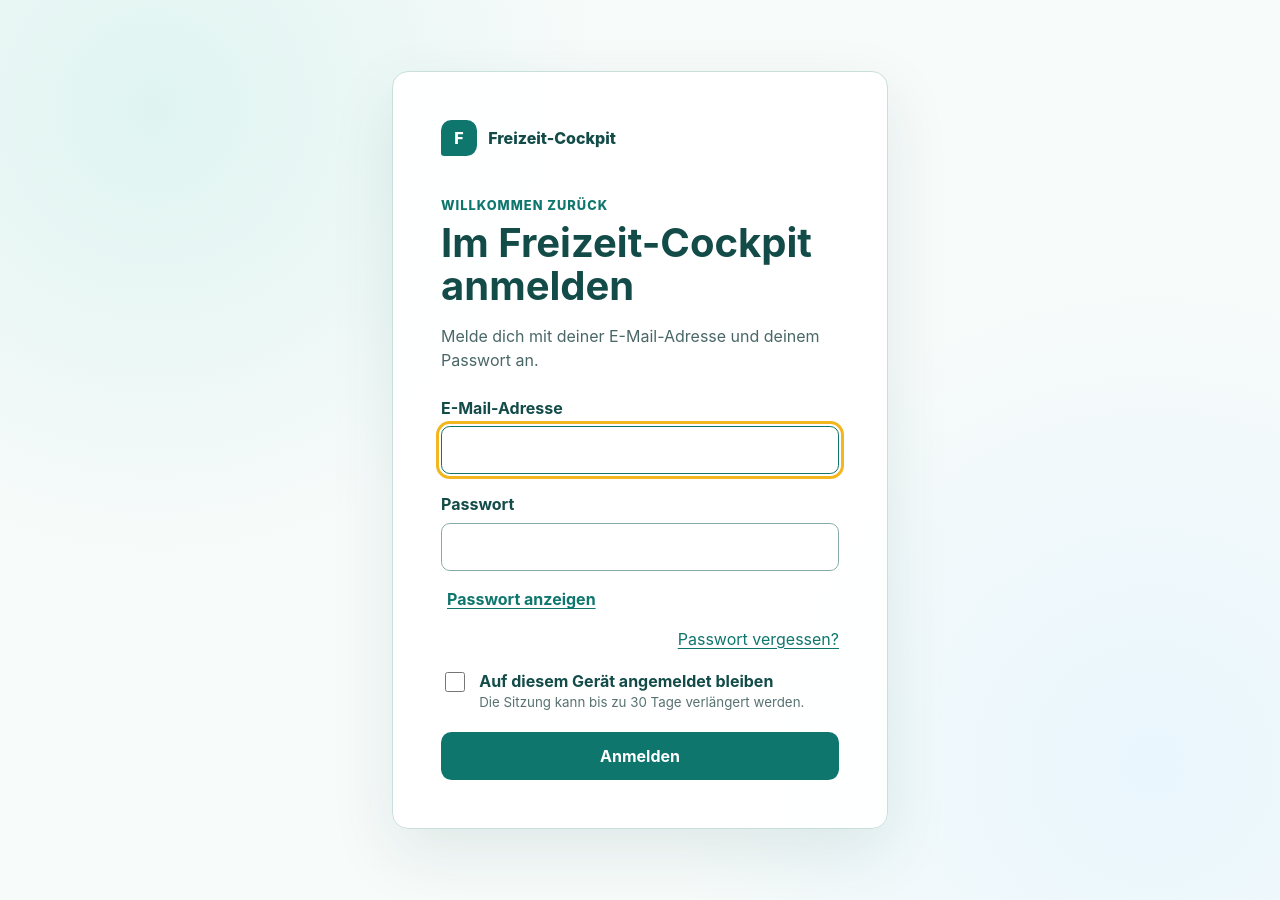
it: identity self-service pages › rejects malformed antiforgery responses during login
Type "lea@example.test" into the field labelled "E-Mail-Adresse" at [640, 450], box [441,426,839,474]
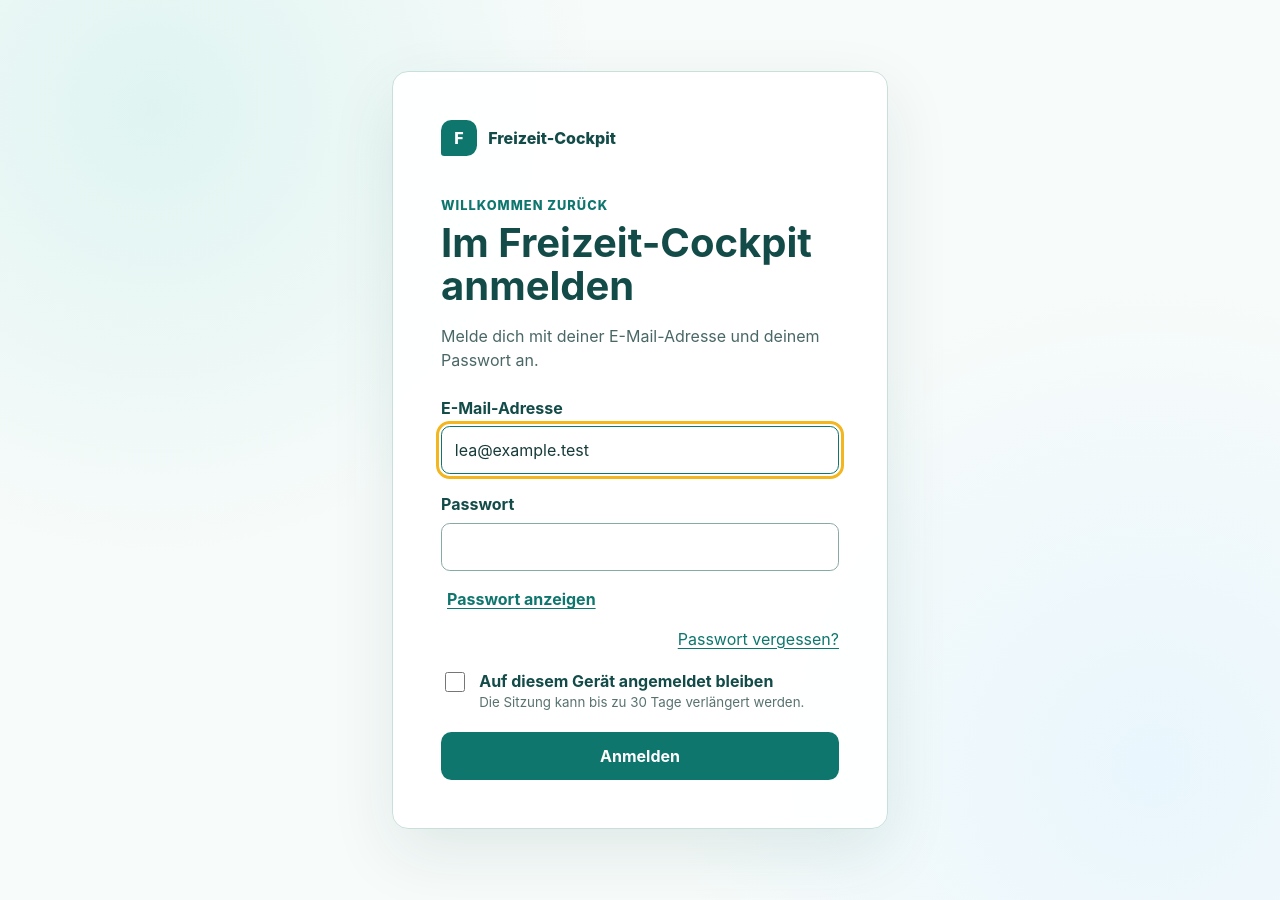
Type "Eine sichere Passphrase" into the password field labelled "Passwort" at [640, 547], box [441,523,839,571]
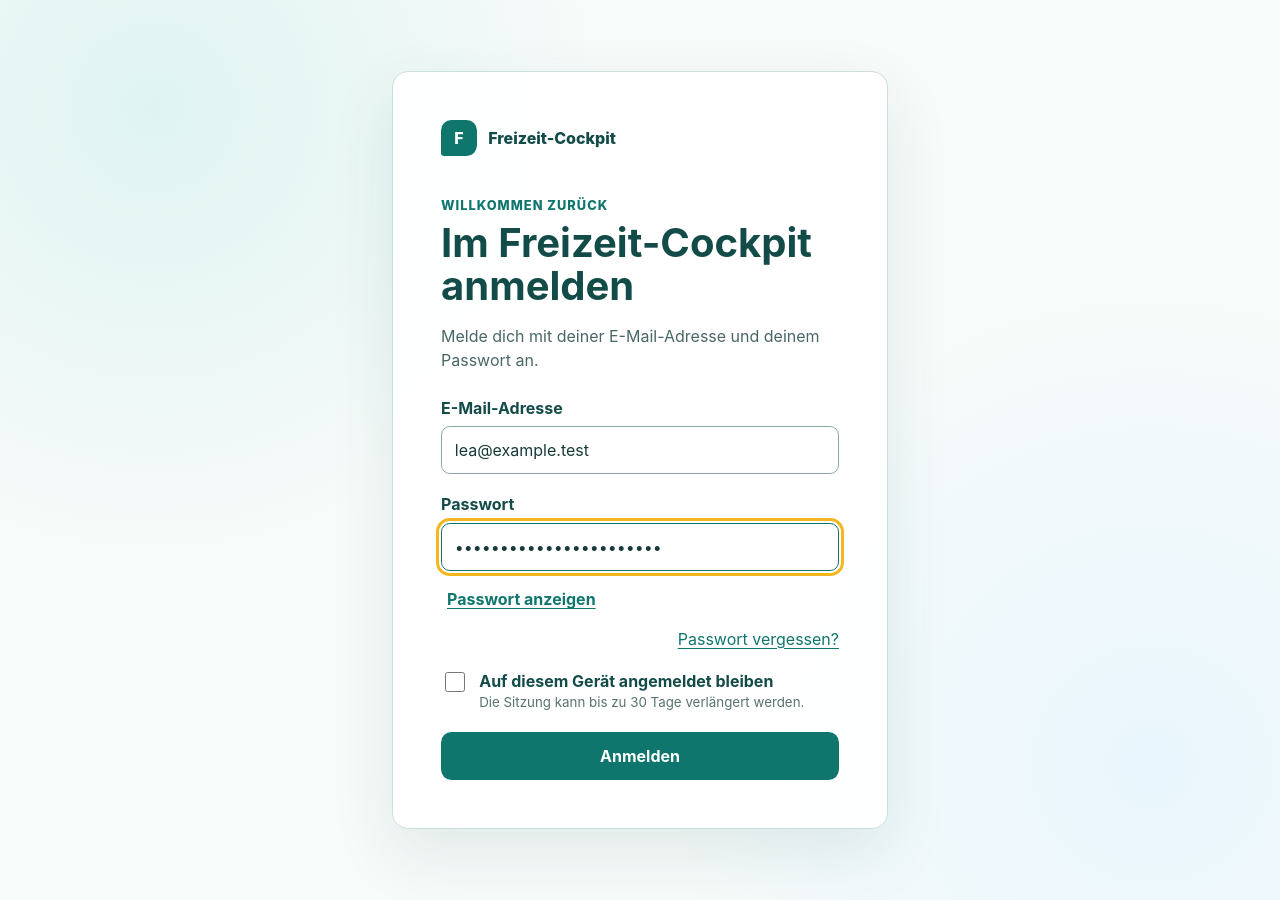
Click the button "Anmelden" at [640, 756], box [441,732,839,780]
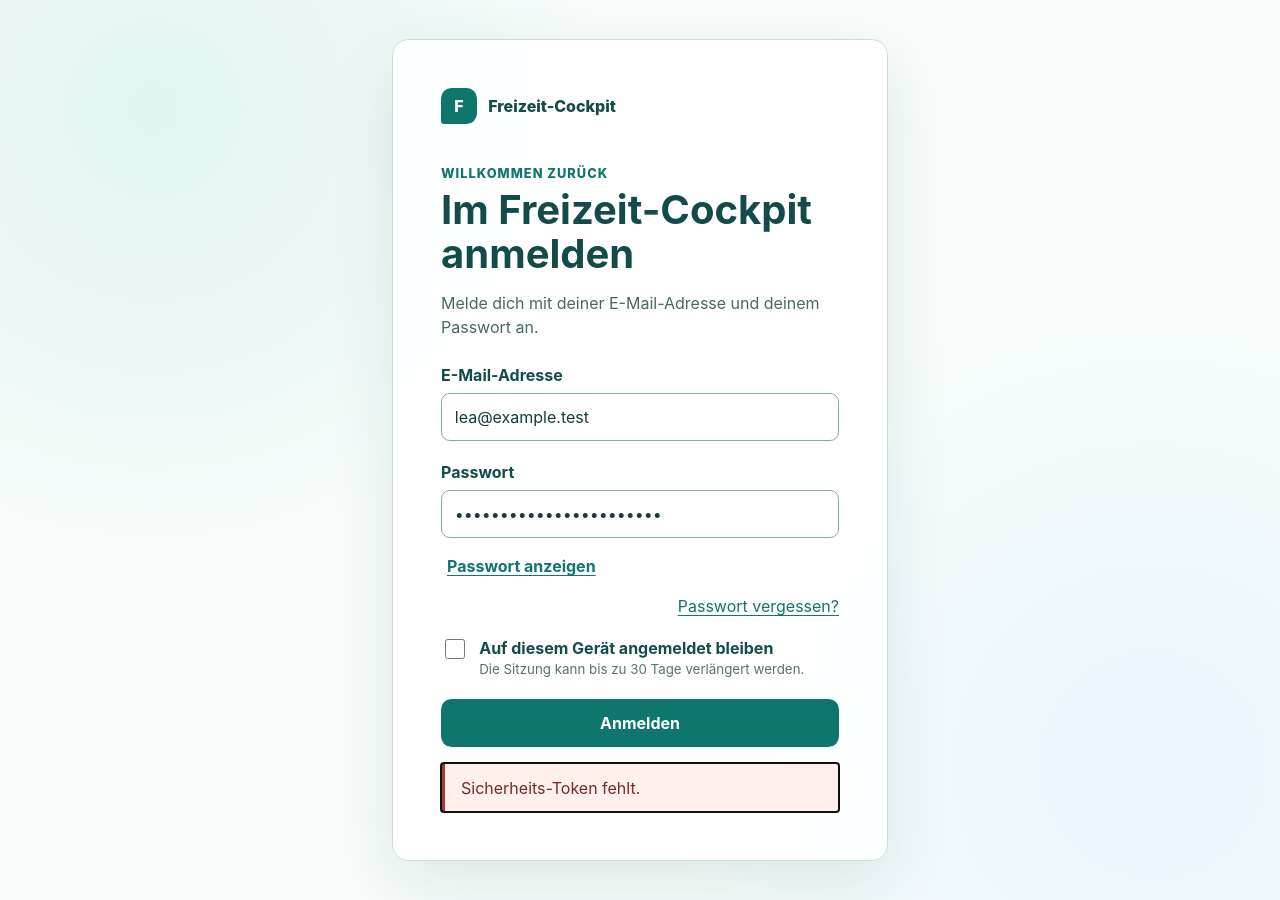
Now the message shows "Sicherheits-Token fehlt", box [461,778,640,798]
